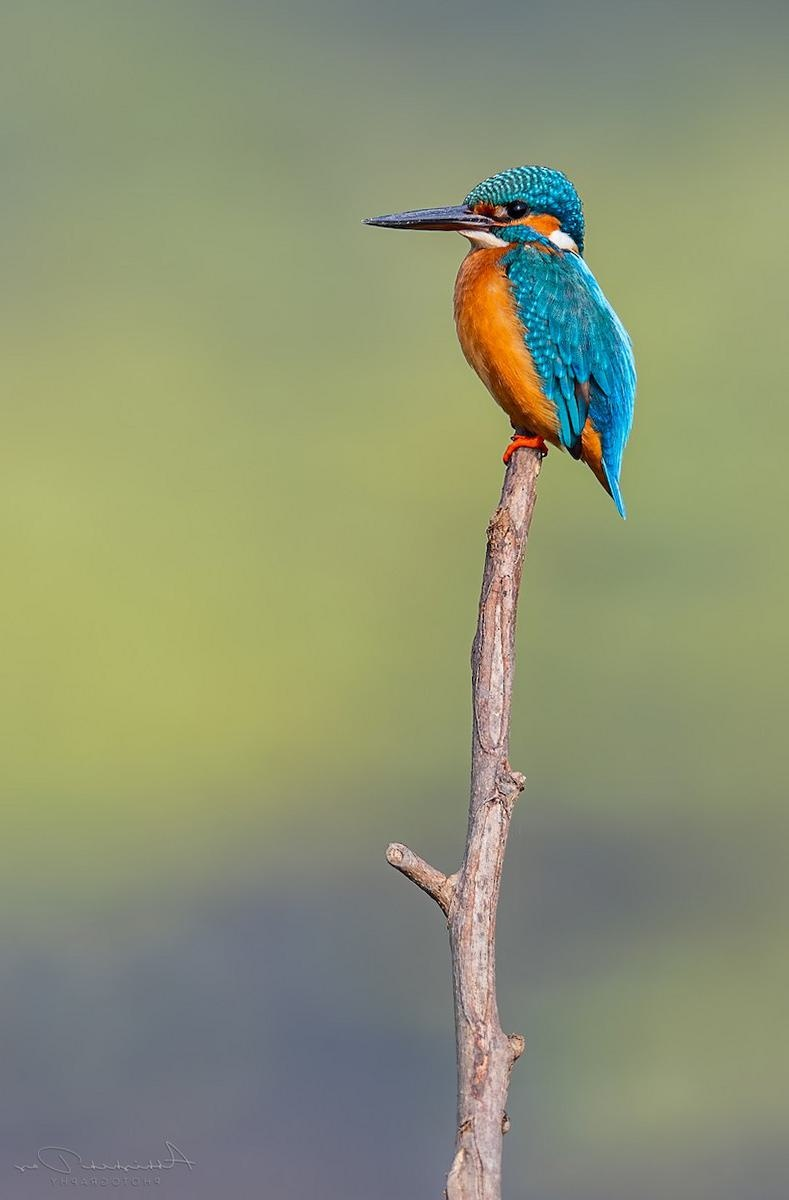kingfisher: (369, 137, 683, 533)
